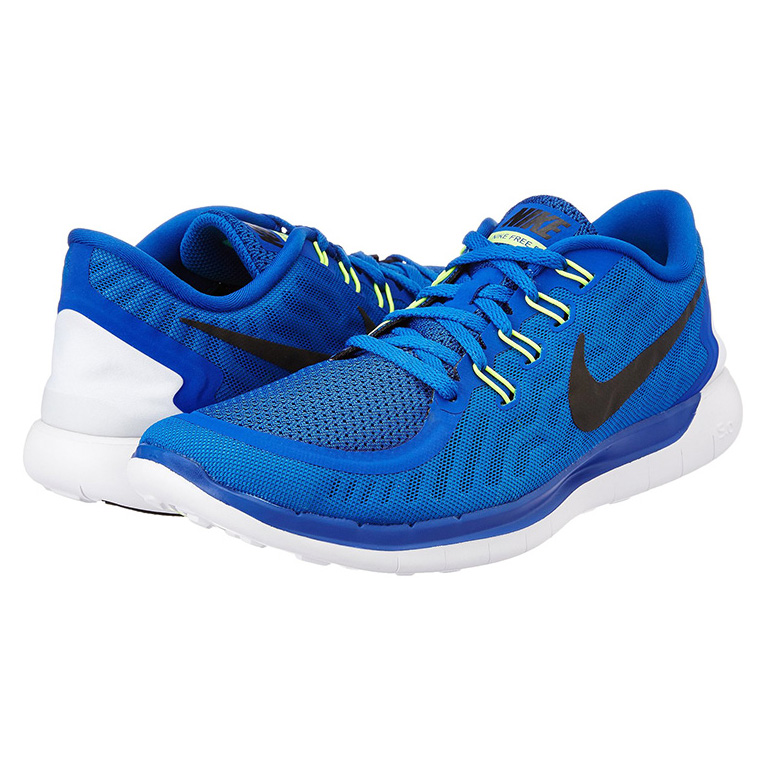Nike: (559, 268, 709, 437), (175, 307, 384, 376)
